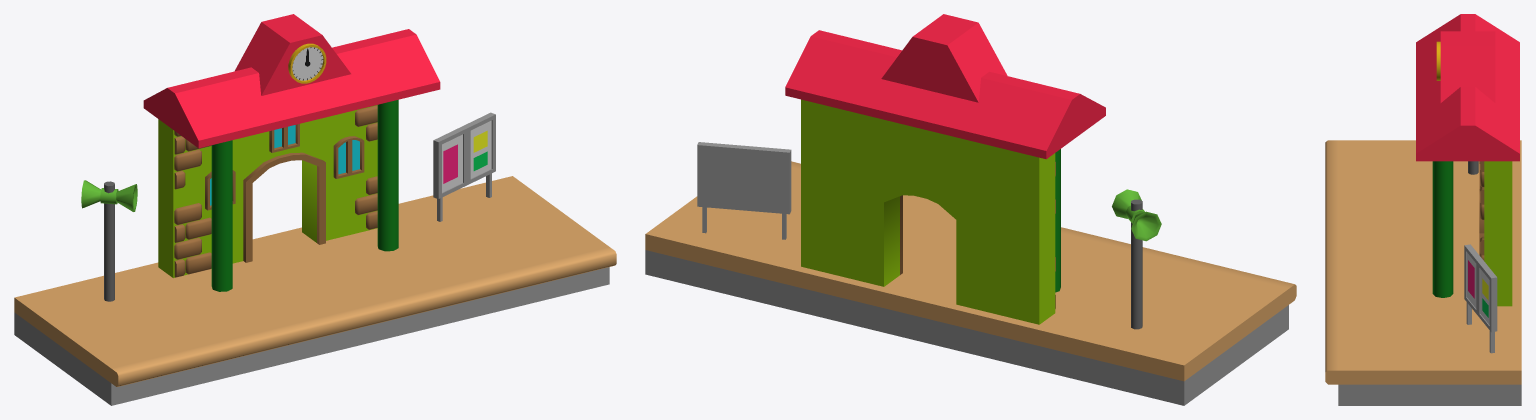
The model's file is railwayStation.fbx.
3 views of the same model, side by side, from view 1: azimuth 30°, elevation 25°; view 2: azimuth 150°, elevation 25°; view 3: azimuth 270°, elevation 25° (orthographic). The views are drawn at different scales.
Visible parts, largest first — view 1: Plane.002, Cube.025, Plane.003, Cube.029; view 2: Cube.025, Plane.002, Plane.003, Cube.029; view 3: Plane.002, Cube.025, Plane.003.
Part boxes in pixels (x1,y1,x2,y2): Plane.002: (14, 176, 616, 405); Cube.025: (143, 14, 440, 291); Plane.003: (433, 112, 495, 221); Cube.029: (81, 180, 137, 301); Cube.025: (785, 14, 1105, 324); Plane.002: (645, 161, 1296, 405); Plane.003: (697, 142, 791, 239); Cube.029: (1112, 189, 1161, 329); Plane.002: (1325, 140, 1521, 405); Cube.025: (1416, 14, 1519, 306); Plane.003: (1464, 244, 1497, 353).
Size of the model in its own units: 3.61 by 1.84 by 1.3.
